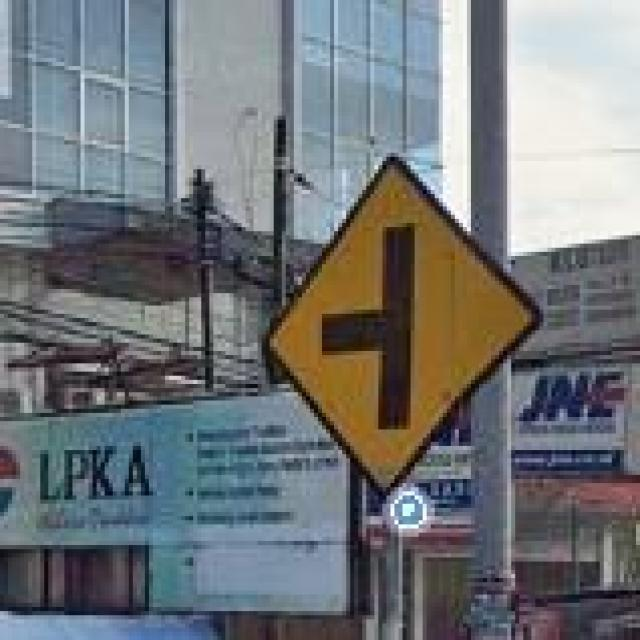traffic sign: (282, 169, 524, 483)
